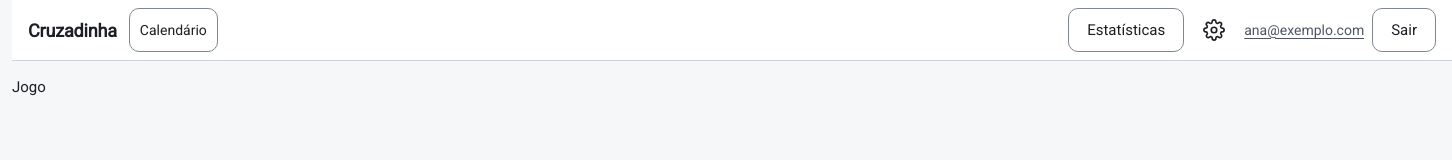
Test: viewerLoader e useViewer › "Sair" encerra a sessão e volta à biblioteca como visitante
Click the button "Sair" at (1404, 30), box [1372,8,1436,52]
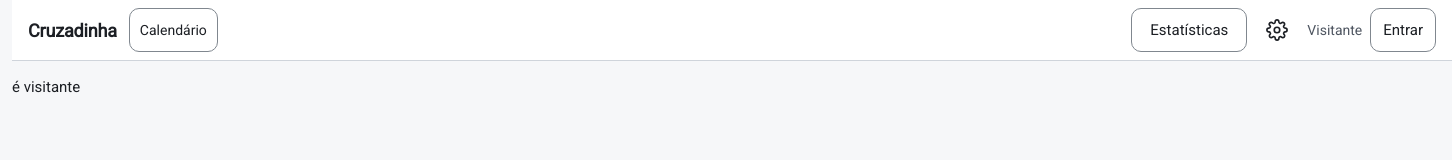
Check: the text "é visitante" is shown, box [12,78,80,96]
Check: the button "Sair" is gone
